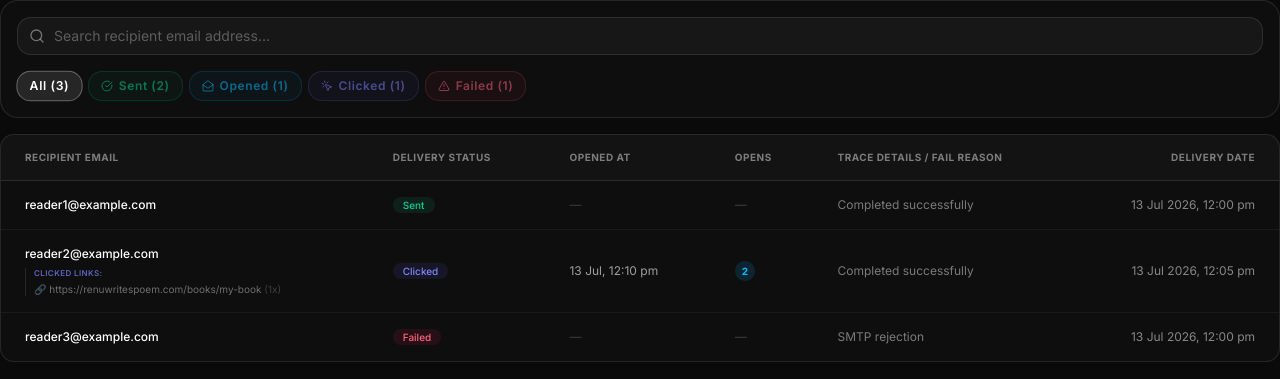
Scenario: DeliveryLogsClient component › should filter the recipient logs by status tabs
Click the button "Failed (1)" at (476, 86), box [425,71,526,101]
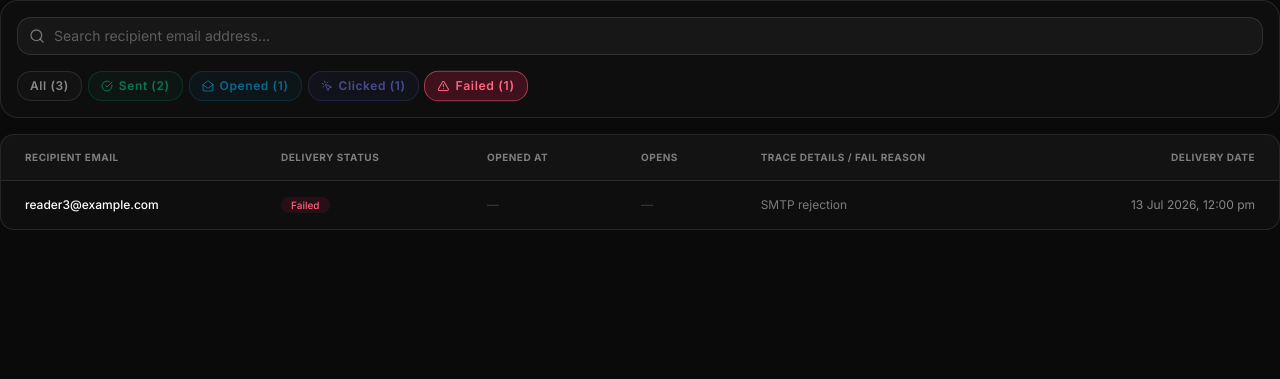
Expected: the text "reader3@example.com" is shown, [25,197,159,212]
Expected: the text "reader1@example.com" is gone
Expected: the text "reader2@example.com" is gone
Click the button "Opened (1)" at (245, 86), box [189,71,302,101]
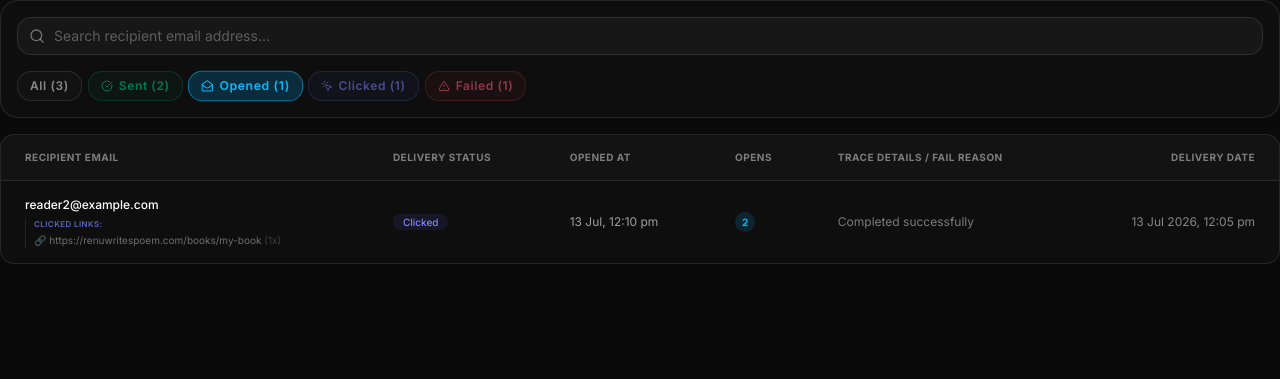
Expected: the text "reader1@example.com" is not shown
Expected: the text "reader2@example.com" is shown, [25,197,159,212]
Expected: the text "reader3@example.com" is gone
